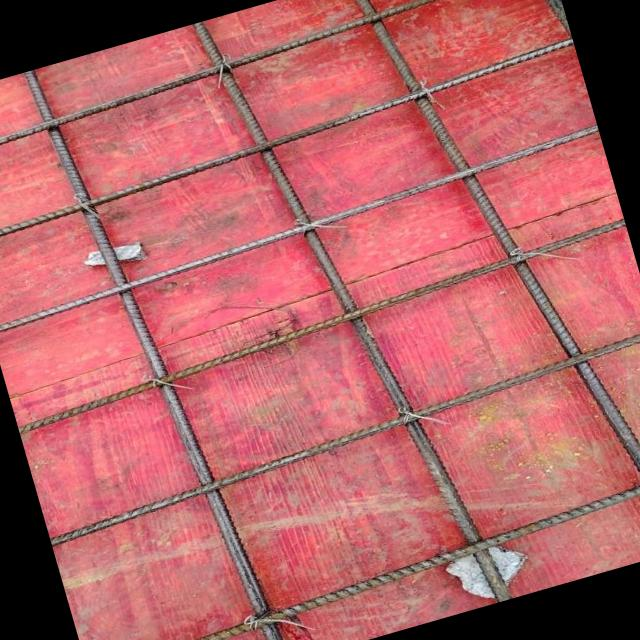ribbed bar: (188, 0, 515, 639), (339, 0, 640, 595), (20, 46, 290, 640), (8, 218, 634, 435), (40, 328, 640, 547), (0, 123, 607, 339), (0, 34, 581, 249), (79, 465, 640, 640), (0, 0, 556, 164)
